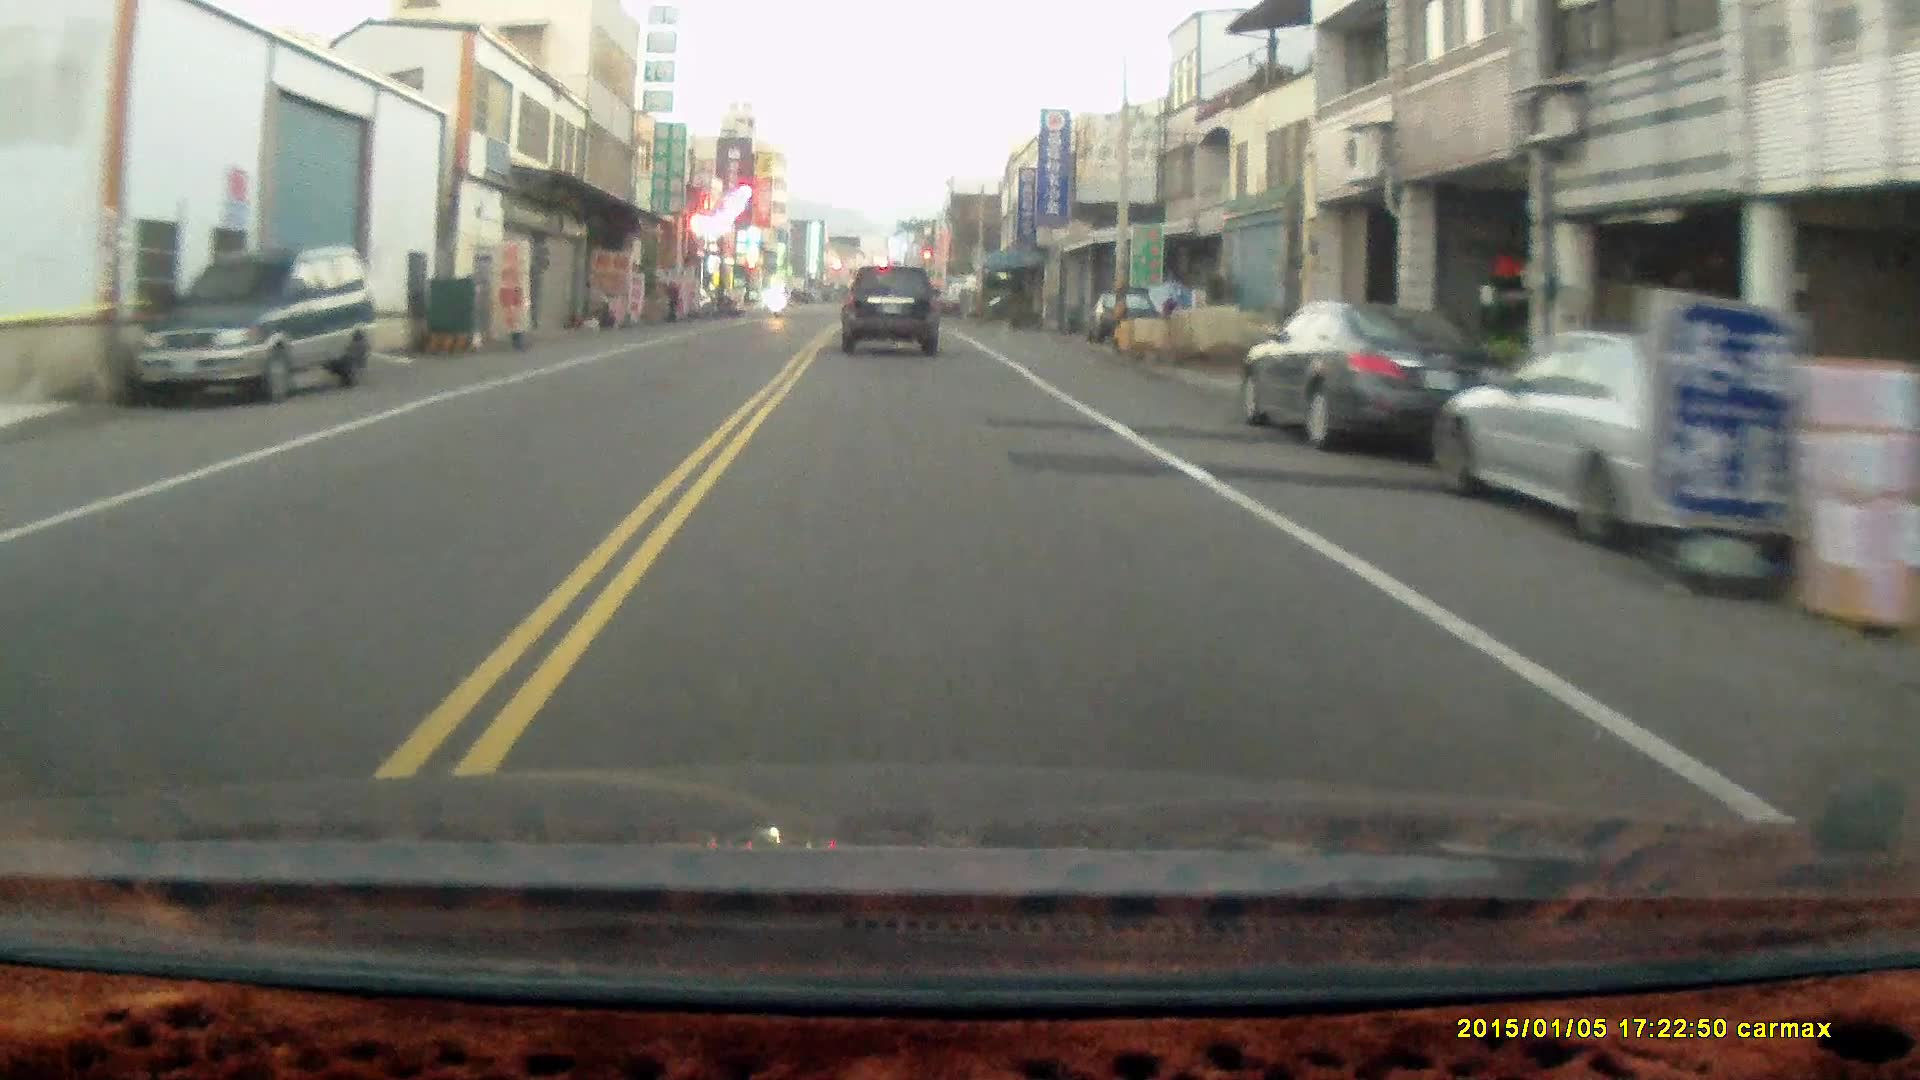pedestrian: (660, 276, 680, 325)
vehicle: (1432, 329, 1887, 549), (1442, 327, 1885, 535), (1240, 297, 1516, 452), (132, 248, 374, 406), (841, 266, 943, 357)
